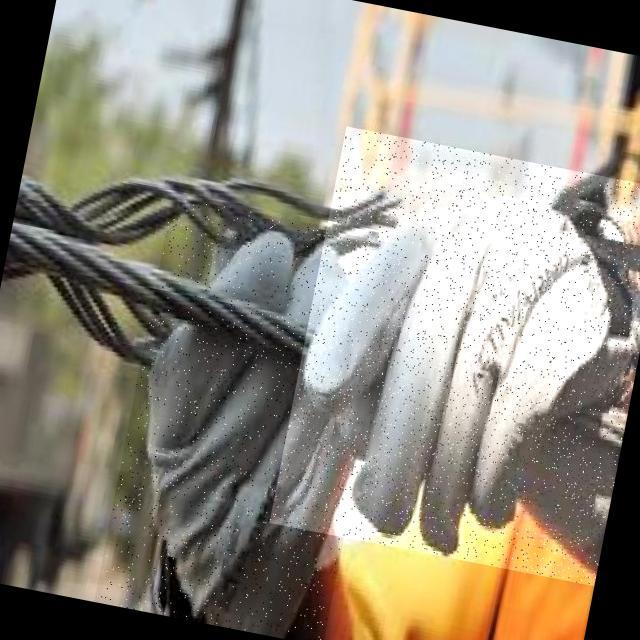Gloves: (269, 126, 640, 586), (94, 196, 402, 640)
